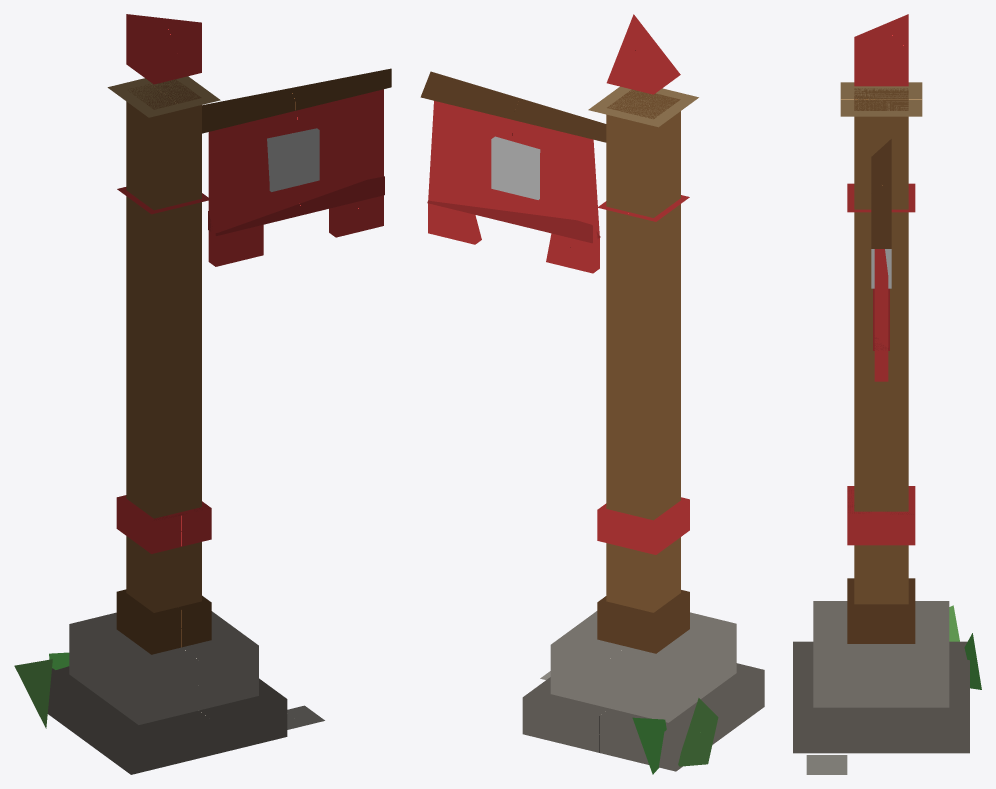
The model's file is territory-marker-robin_lod1.glb.
3 renders of one model, left to right at view 1: azimuth 30°, elevation 25°; view 2: azimuth 150°, elevation 25°; view 3: azimuth 270°, elevation 25°, orthographic. The views are drawn at different scales.
Visible parts, largest first — view 1: marker-post, banner; view 2: marker-post, banner; view 3: marker-post, banner.
Boxes of the visible parts, x1,y1,x2,y2 form: marker-post: (14, 14, 324, 774); banner: (202, 68, 391, 266); marker-post: (522, 14, 764, 774); banner: (420, 71, 606, 273); marker-post: (793, 14, 981, 774); banner: (871, 139, 891, 381).
Bounding box in the file's own units: 0.5581 × 1.12 × 0.2778.
